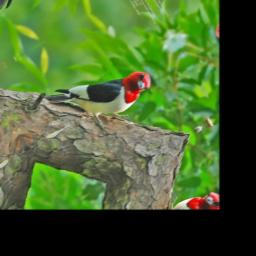Woodpecker: (42, 42, 164, 151)
